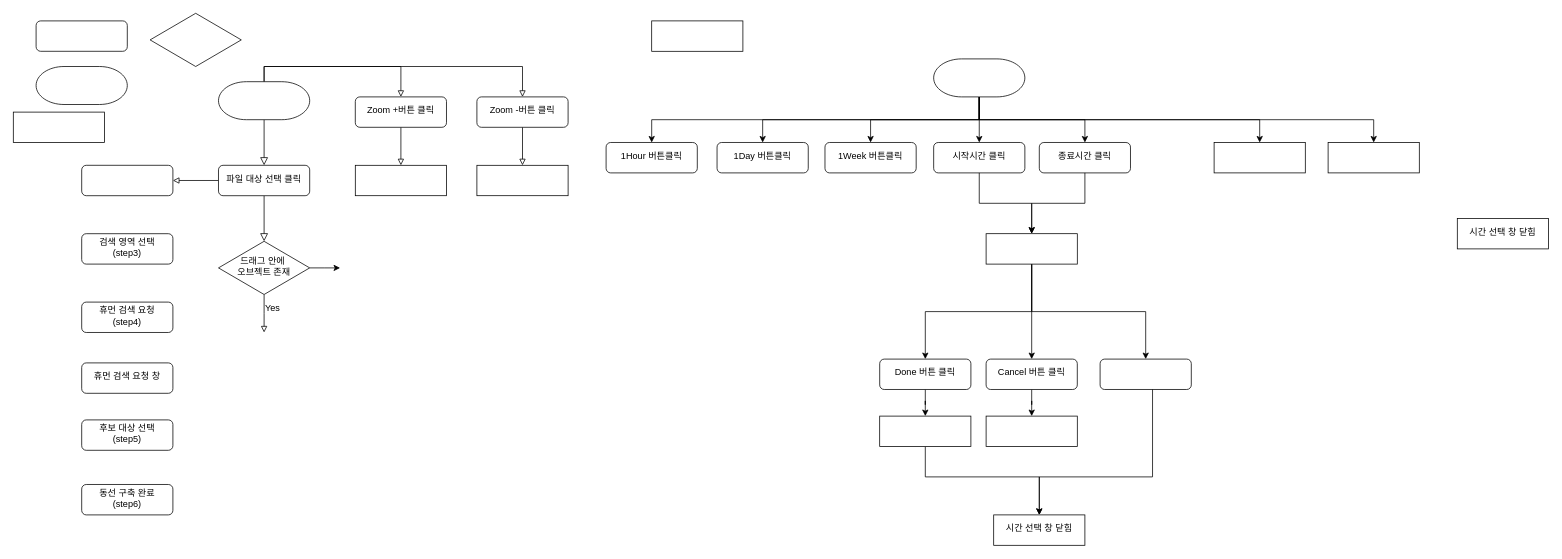
Some shapes in this 1562 by 559 pixel diagram are drawn without their labels. The box of each missing label's shape, as (x1, y1, x2, y2) in pixels:
Project Steps: (81, 165, 173, 196)
x버튼 클릭: (1099, 358, 1191, 390)
ZoomLevel 1감소: (476, 165, 568, 196)
ZoomLevel 1증가: (355, 165, 446, 196)
년,월,일,시,분 표시: (879, 415, 971, 446)
변경 전 년,월,일,시,분 표시: (985, 415, 1077, 446)
시간 선택 창 열림: (985, 233, 1077, 264)
실행: (218, 81, 310, 120)
휴먼 검색 요청 창 열림: (933, 58, 1025, 97)
